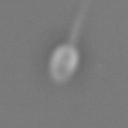normal: (54, 1, 105, 42)
